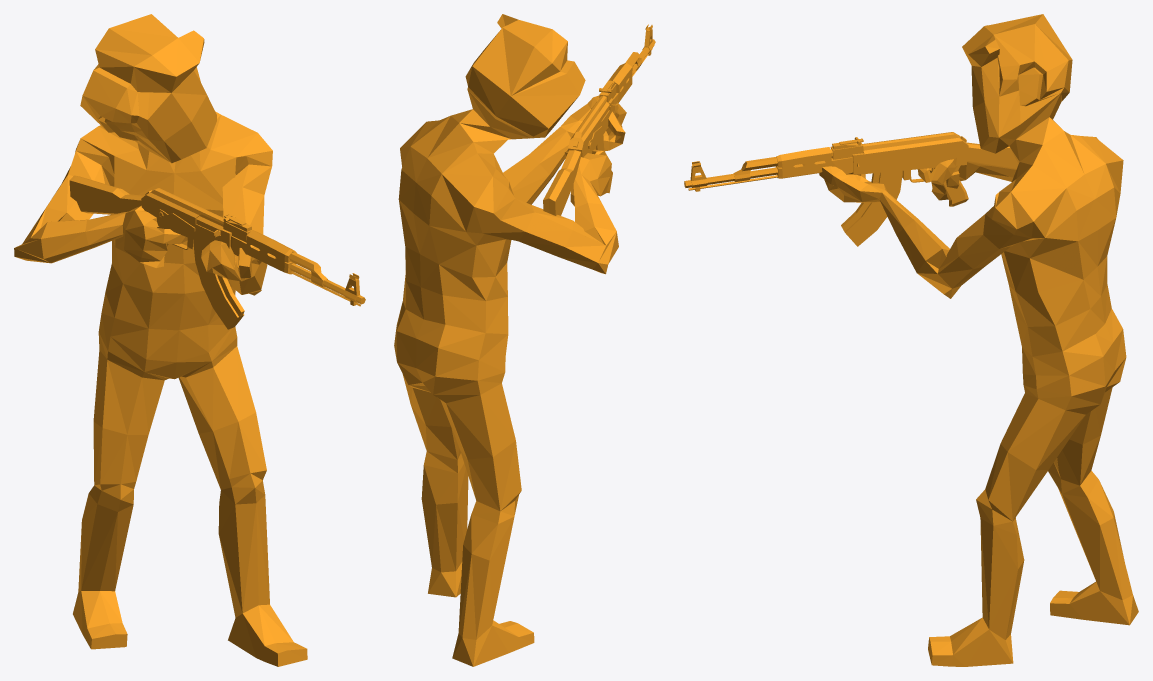
Rendered from SM_Pawn_Weapon_Male_01.fbx.
3 renders of one model, left to right at view 1: azimuth 30°, elevation 25°; view 2: azimuth 150°, elevation 25°; view 3: azimuth 270°, elevation 25°, orthographic. The views are drawn at different scales.
Parts seen in each view (by area): view 1: SM_Pawn_Weapon_Male_01; view 2: SM_Pawn_Weapon_Male_01; view 3: SM_Pawn_Weapon_Male_01.
Part boxes in pixels (left/top/right/bottom): SM_Pawn_Weapon_Male_01: left=14, top=14, right=365, bottom=666; SM_Pawn_Weapon_Male_01: left=394, top=14, right=655, bottom=666; SM_Pawn_Weapon_Male_01: left=684, top=14, right=1138, bottom=666.
Size of the model in its own units: 68.55 by 177 by 122.
